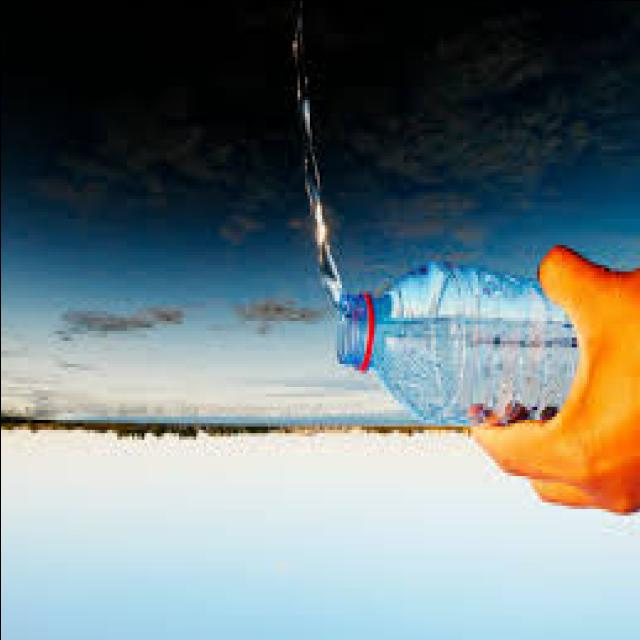no_cap: (330, 287, 386, 382)
